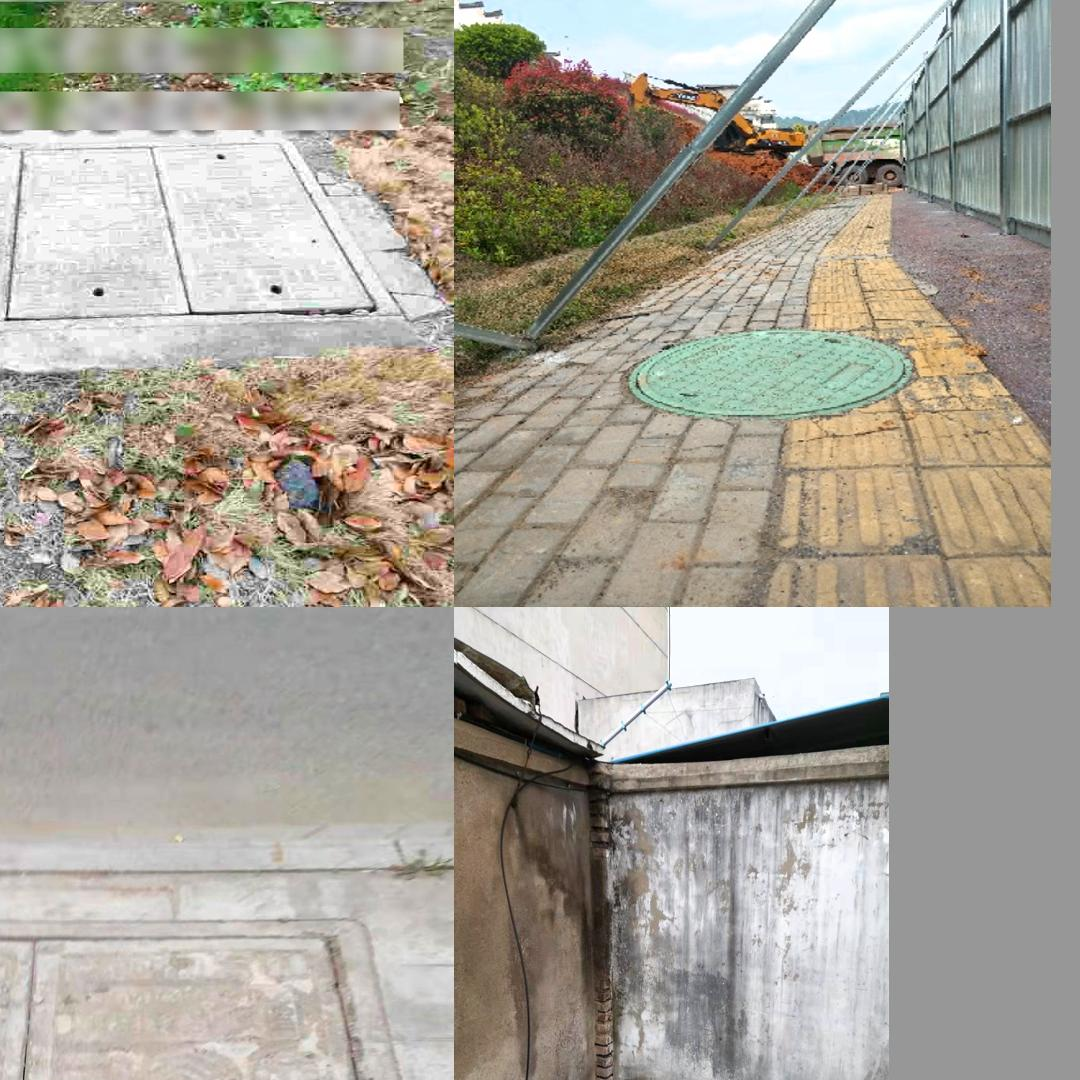good: (0, 134, 408, 336), (0, 916, 372, 1080), (627, 329, 911, 419)
